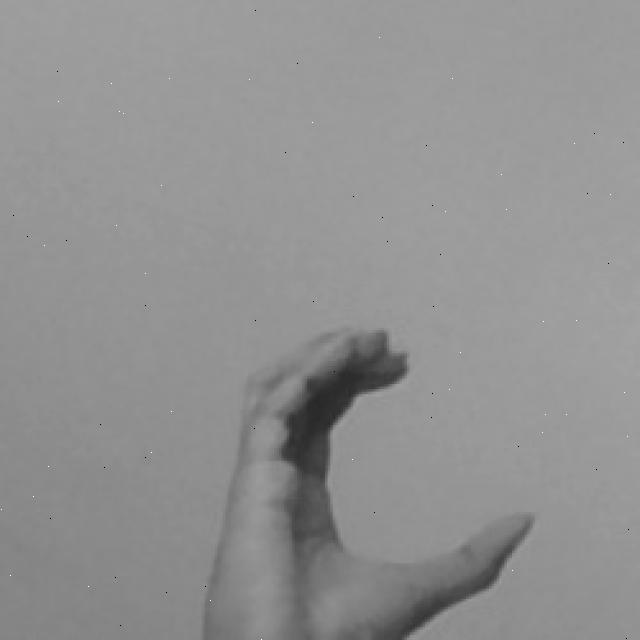C: (204, 329, 539, 640)
